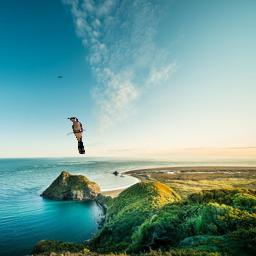Cuckoo: (67, 117, 86, 155)
